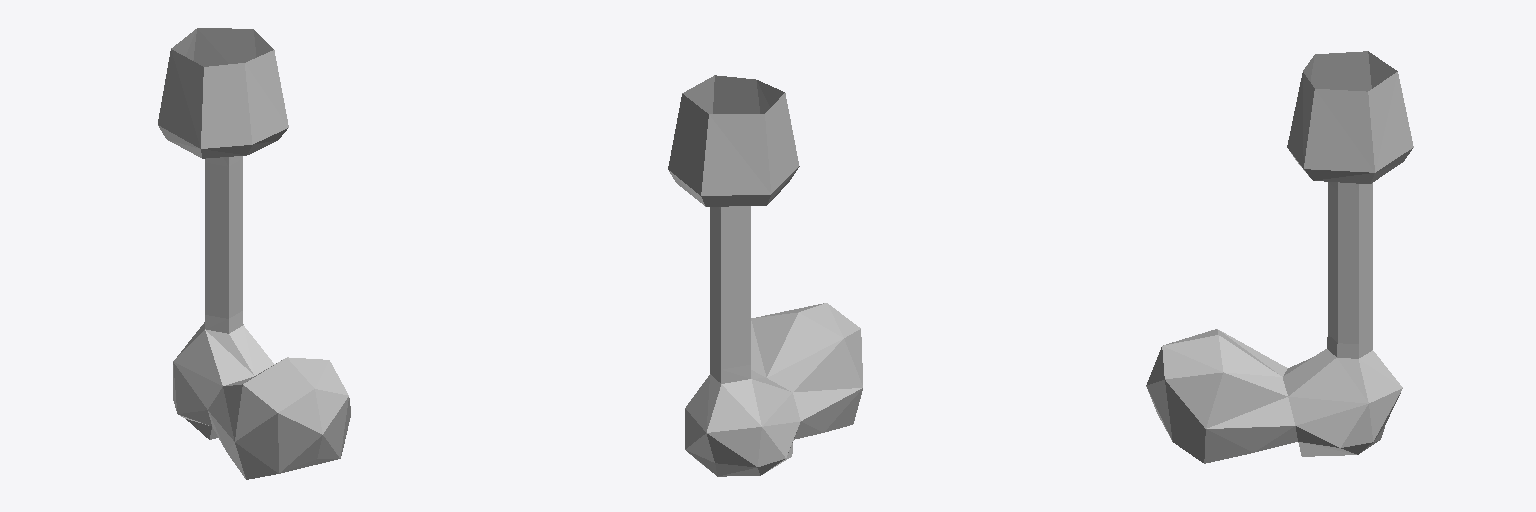
The model's file is pieIzquierdo.obj.
3 views of the same model, side by side, from view 1: azimuth 30°, elevation 25°; view 2: azimuth 150°, elevation 25°; view 3: azimuth 270°, elevation 25° (orthographic).
Visible parts, largest first — view 1: pasted__polySurface10 group30 pasted__group12 pasted__group11 pa; view 2: pasted__polySurface10 group30 pasted__group12 pasted__group11 pa; view 3: pasted__polySurface10 group30 pasted__group12 pasted__group11 pa.
Boxes of the visible parts, x1,y1,x2,y2 form: pasted__polySurface10 group30 pasted__group12 pasted__group11 pa: [158, 28, 350, 479]; pasted__polySurface10 group30 pasted__group12 pasted__group11 pa: [668, 75, 862, 476]; pasted__polySurface10 group30 pasted__group12 pasted__group11 pa: [1146, 51, 1413, 463].
Bounding box in the file's own units: 0.2323 × 0.7024 × 0.4611.